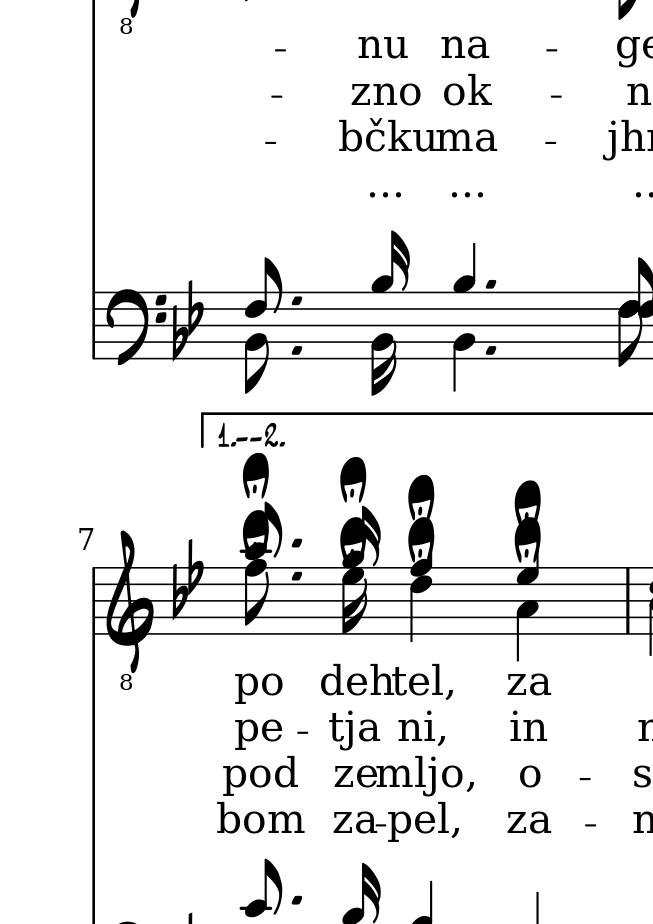7: (75, 523, 98, 553)
Fclef: (103, 286, 169, 366)
Lower_Gclef: (105, 529, 155, 692)
Single_barline: (620, 567, 637, 632), (86, 292, 101, 359), (86, 567, 100, 633)
